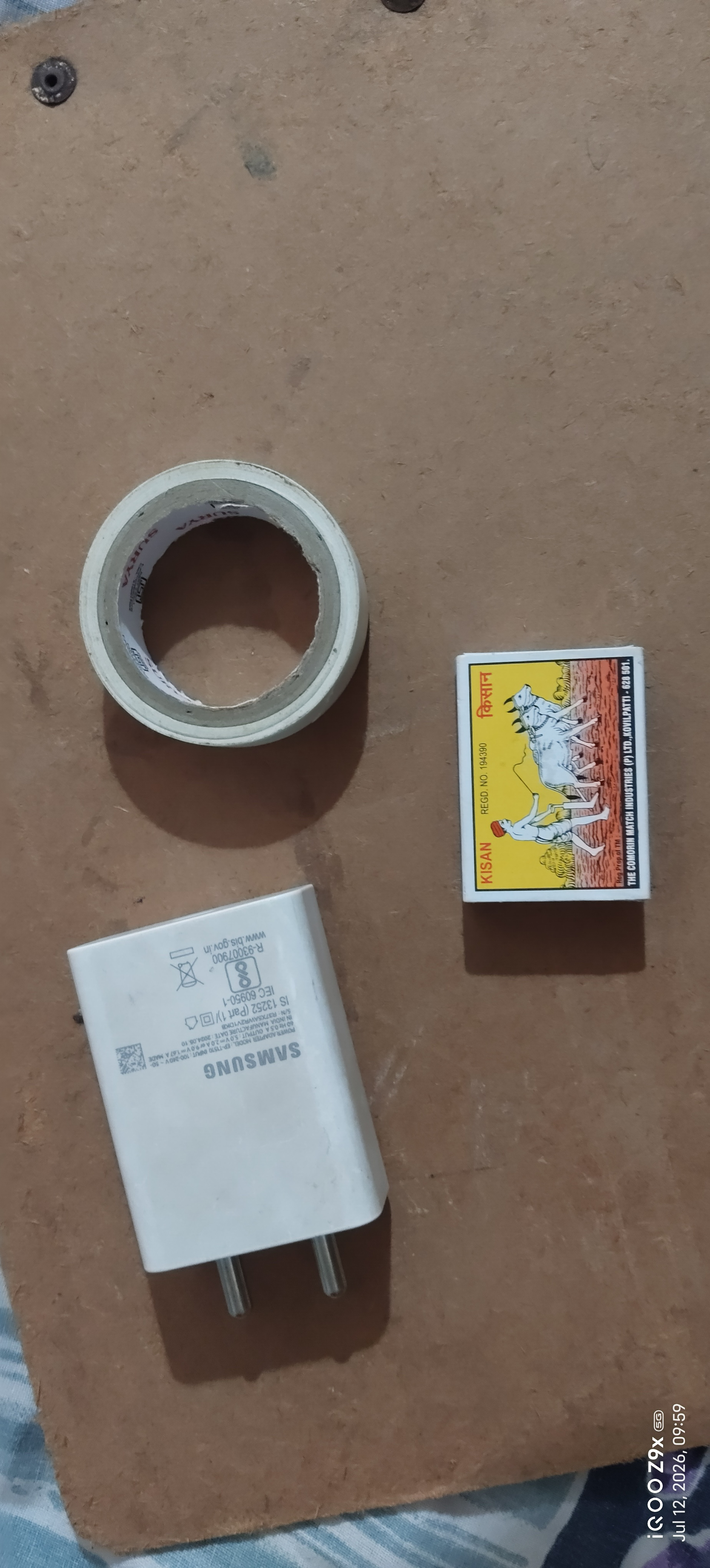charger: (57, 868, 418, 1335)
matchbox: (434, 629, 673, 931)
tape_roll: (64, 445, 393, 774)
